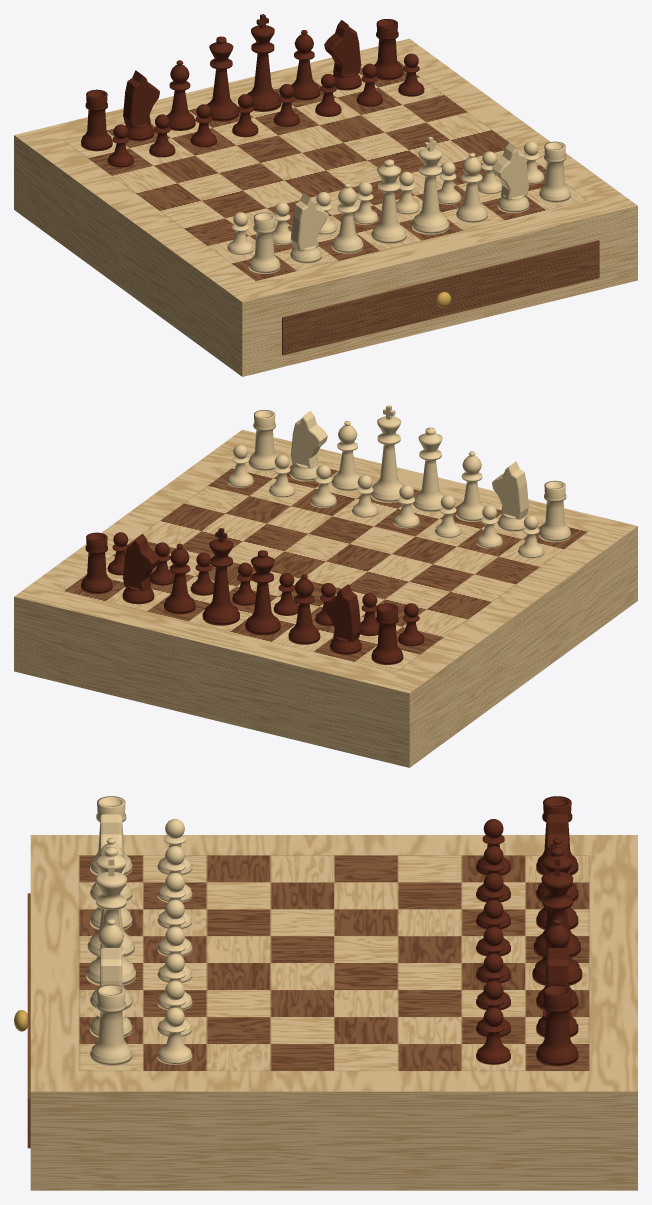
The model's file is philidor-3d-erable-tiroir-30.glb.
3 renders of one model, top to bottom at view 1: azimuth 30°, elevation 25°; view 2: azimuth 150°, elevation 25°; view 3: azimuth 270°, elevation 25°, orthographic. The views are drawn at different scales.
Parts seen in each view (by area): view 1: erable-tiroir-30; view 2: erable-tiroir-30; view 3: erable-tiroir-30.
Part boxes in pixels (x1,y1,x2,y2): erable-tiroir-30: [14, 14, 637, 376]; erable-tiroir-30: [14, 405, 637, 767]; erable-tiroir-30: [14, 796, 637, 1190].
Size of what is drawn, in the model's own units: 0.305 by 0.1204 by 0.3134.
Materials: 6 (3 with a texture image).
